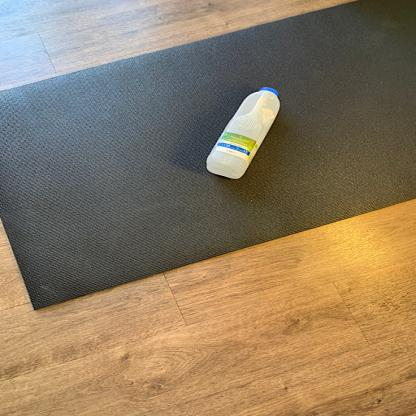trash: (204, 83, 283, 181)
